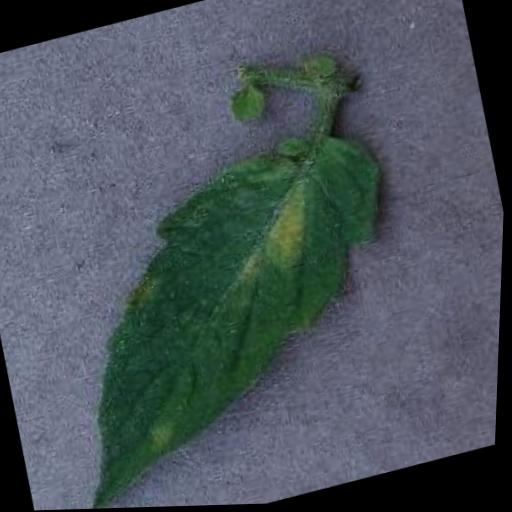Leaf Mold: (22, 113, 440, 511)
